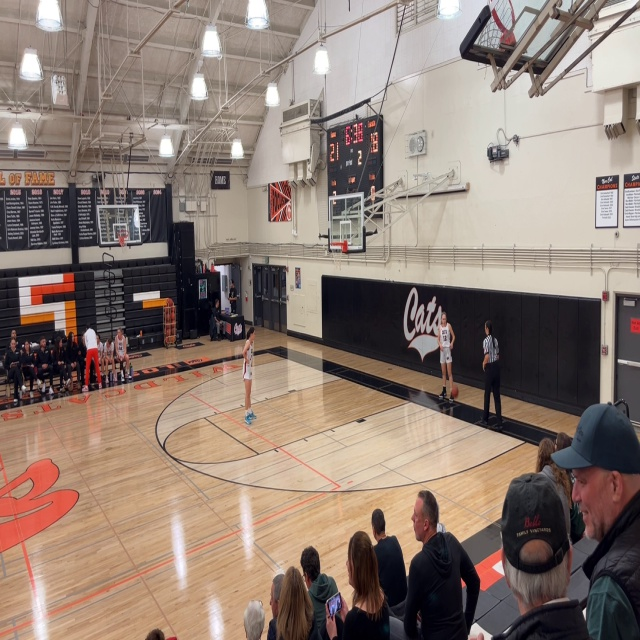Basketball: (450, 384, 458, 398)
